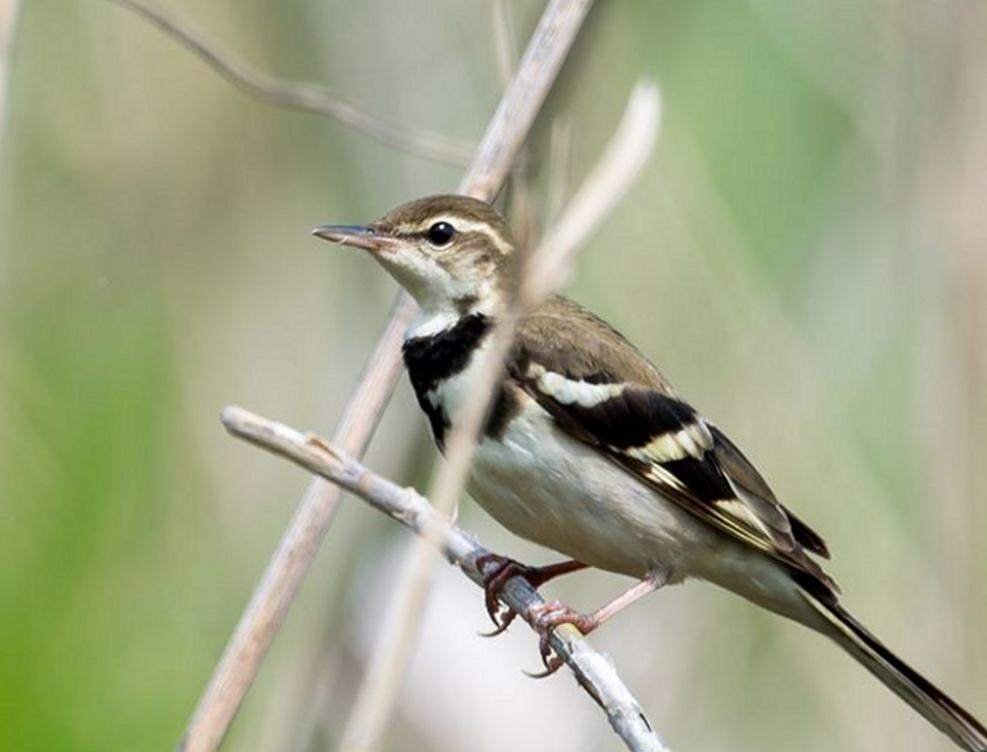wagtail: (289, 156, 847, 685)
